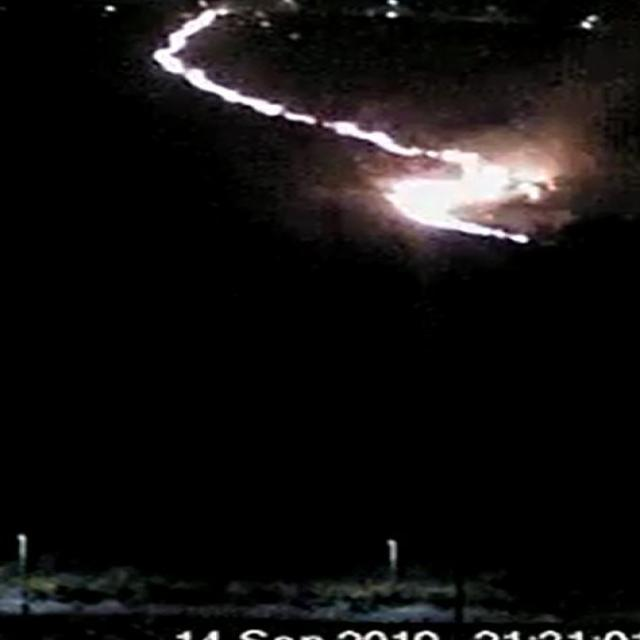Fire: (132, 2, 544, 252)
